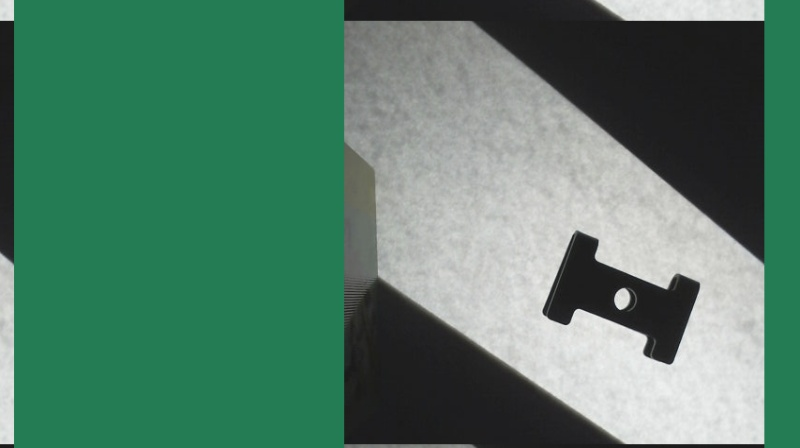O002: (538, 226, 702, 368)
